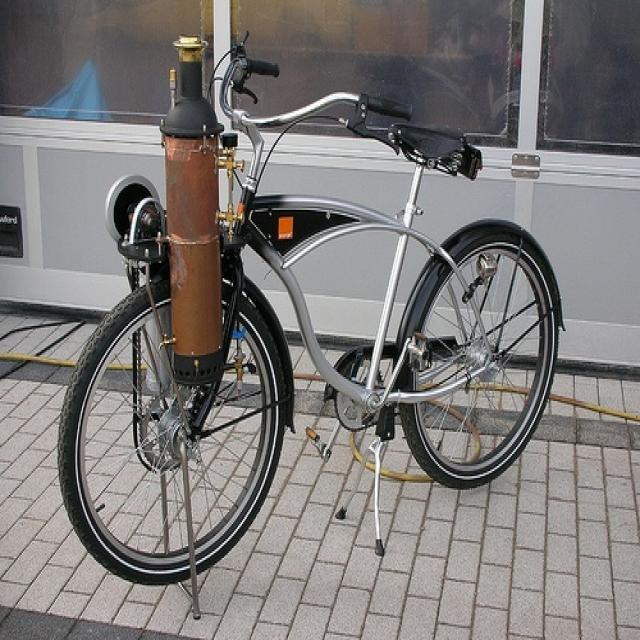bicycle: (58, 26, 566, 580)
